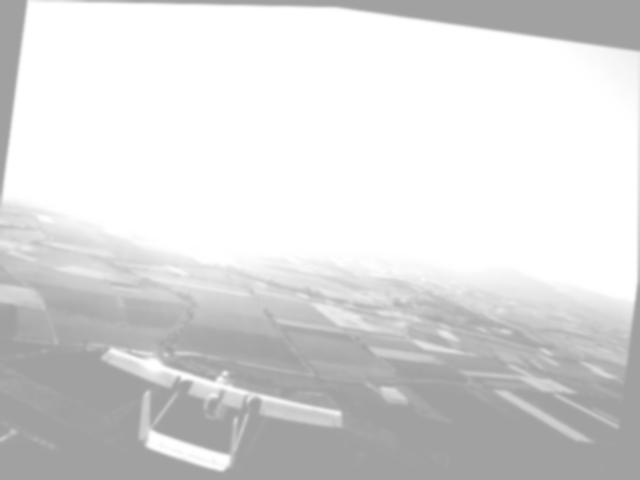hedef: (77, 328, 354, 480)
